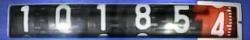digits: (173, 4, 191, 34), (209, 11, 226, 38), (54, 4, 72, 29), (134, 4, 151, 29), (20, 4, 30, 32), (96, 4, 105, 30)
